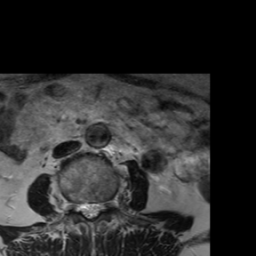CCS_stenosis: (87, 194, 94, 226)
LFS_normal: (101, 191, 110, 214)
LLS_normal: (94, 195, 101, 220)
RFS_normal: (69, 194, 78, 218)
RLS_normal: (78, 195, 87, 221)
